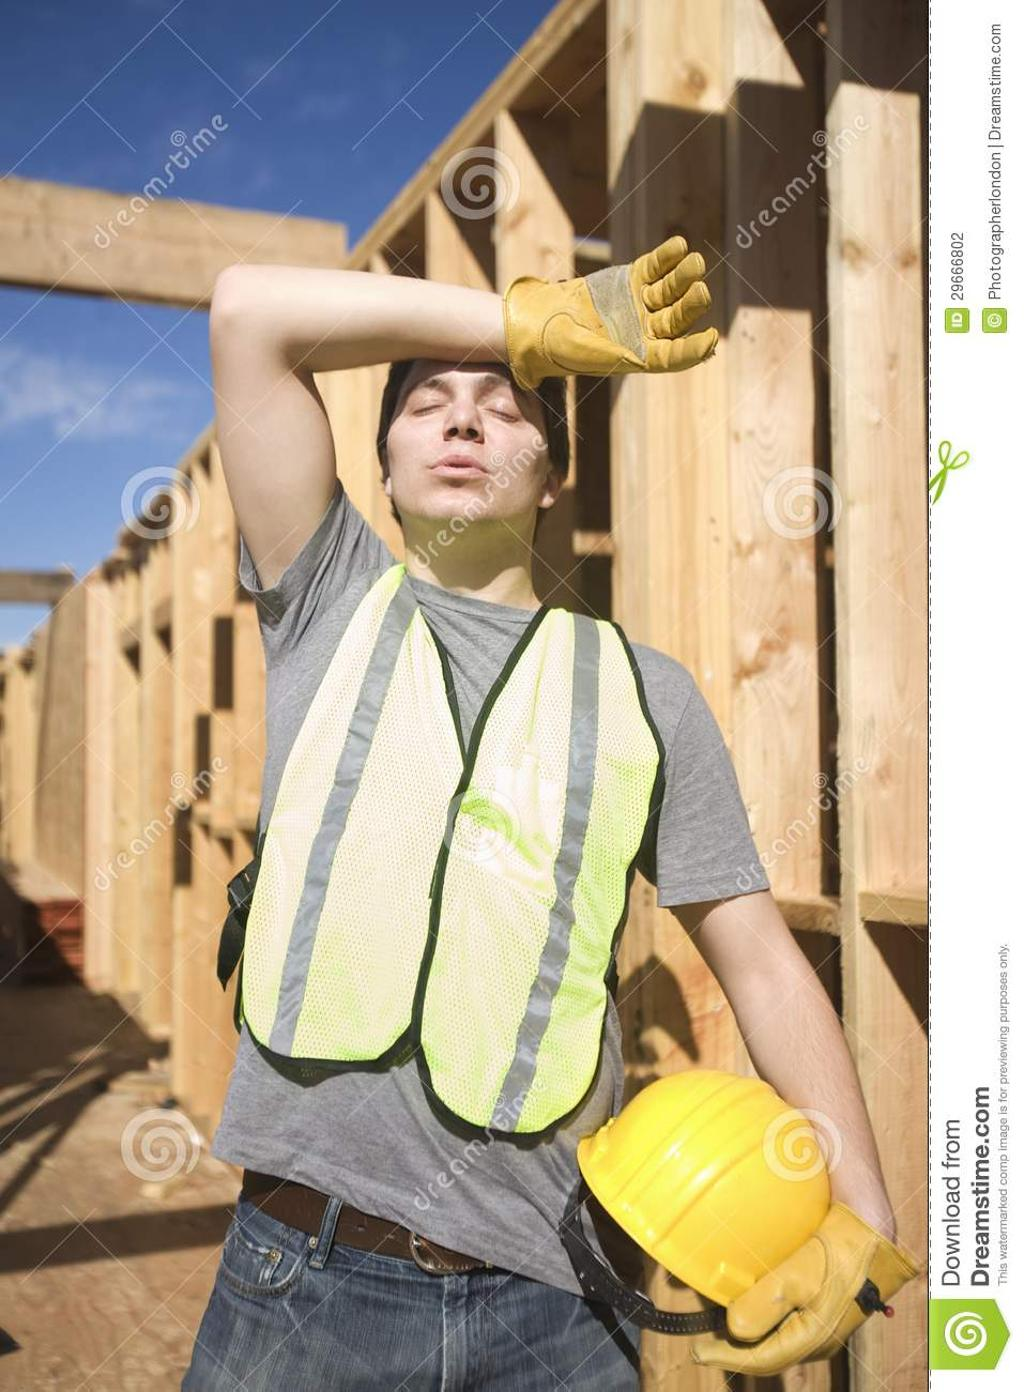face: (394, 312, 543, 510)
